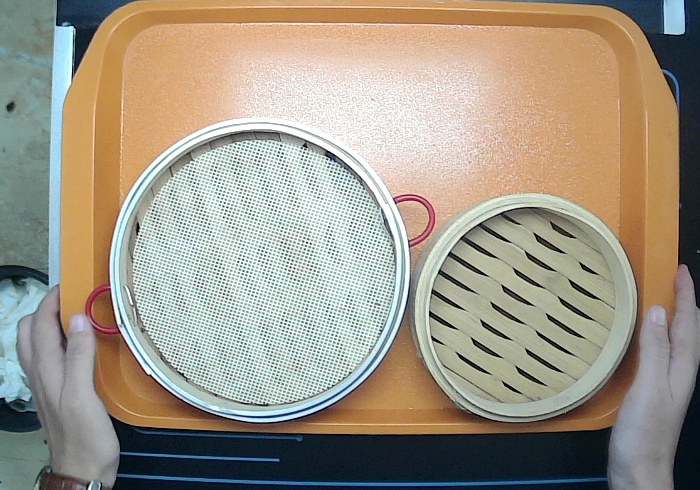ZNLD-Da_Zheng_Long: (82, 115, 436, 424)
ZNLD-Xiao_Zheng_Long: (407, 190, 640, 424)
